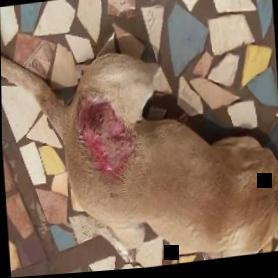skin_lesions: (73, 101, 137, 186)
